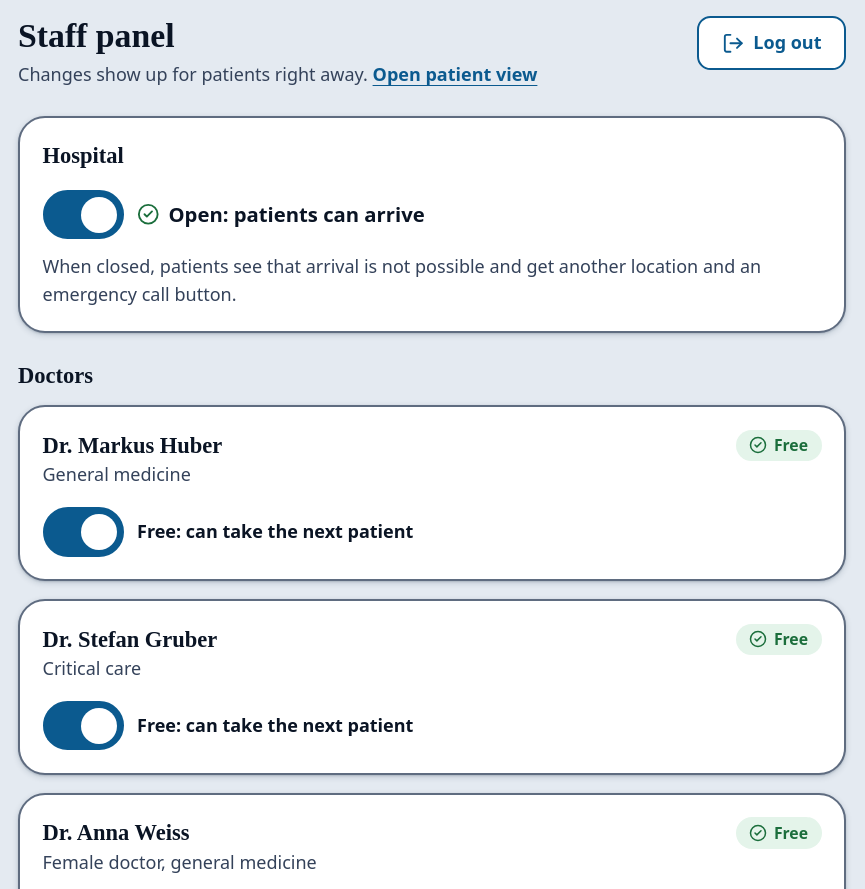
Test: StaffView › closes the hospital and logs out
Click the switch named "Hospital open".
click(83, 215)  # box [42,190,124,239]
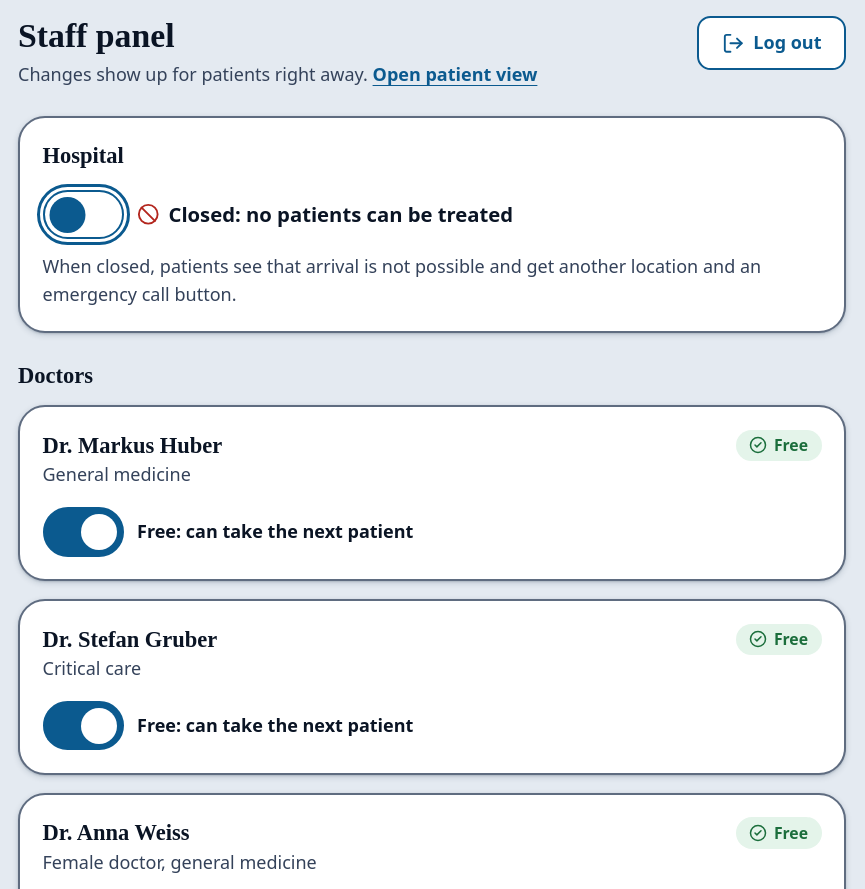
Click the button "Log out".
click(772, 43)  # box [697,16,846,70]
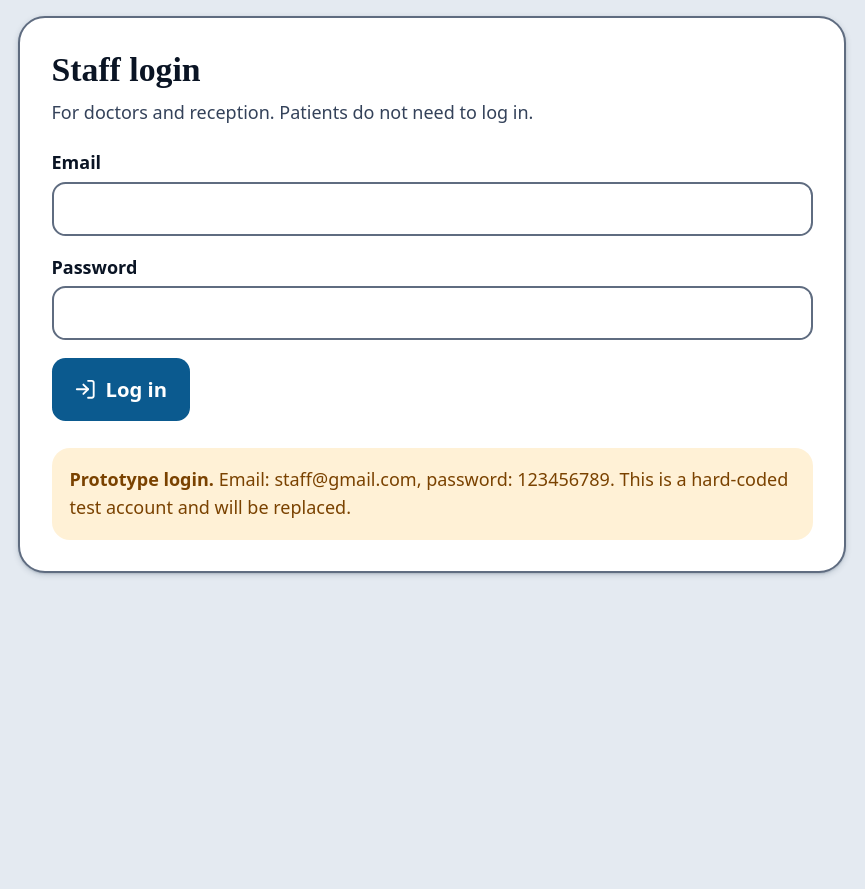
Now the heading "Staff login" is shown, box [52,50,201,88]
